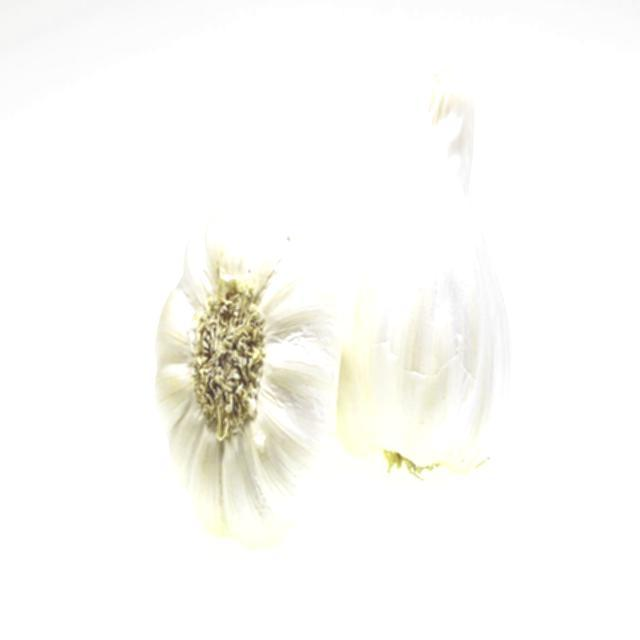garlic: (337, 92, 509, 472), (158, 224, 338, 544)
